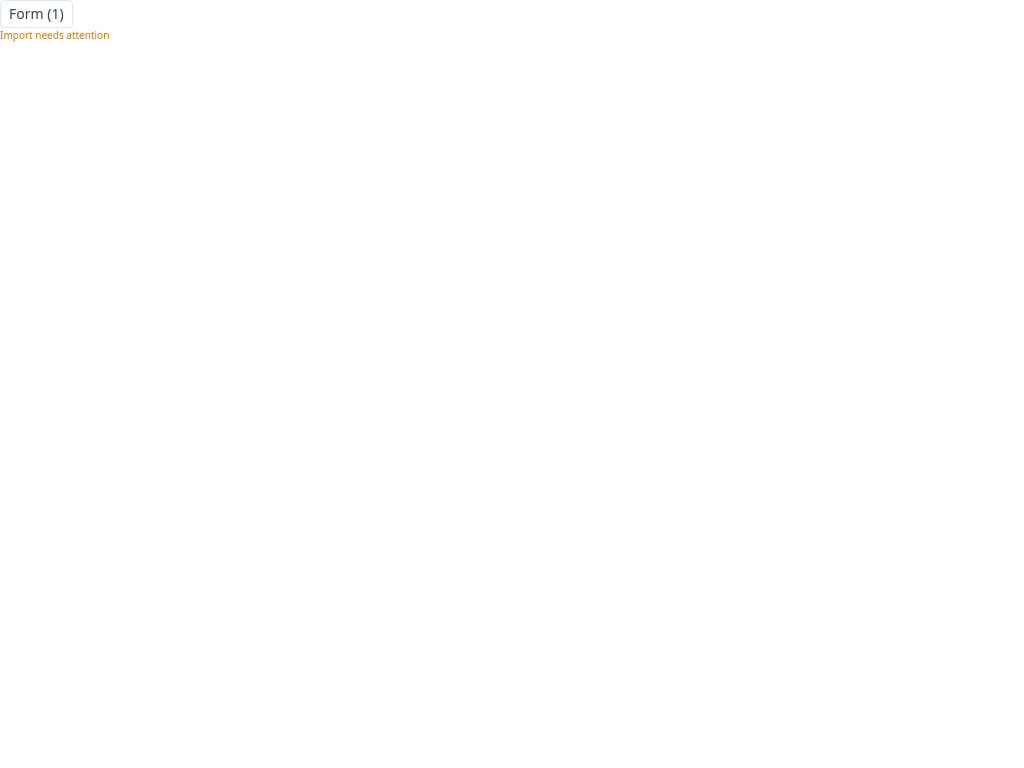
it: shows only the latest form for the same truck/day
This screenshot has width=1024, height=768.
Click the button "Form (1)" at (36, 14), box x1=0 y1=0 x2=73 y2=28
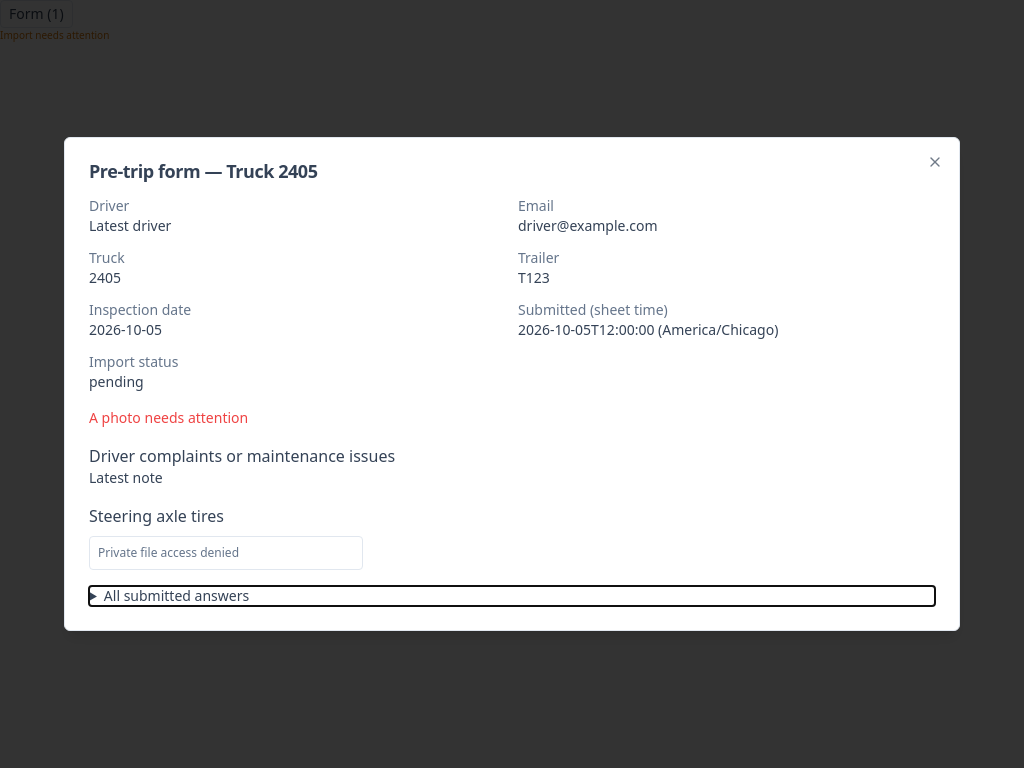
expect the text "Latest driver" is shown: met, box x1=89 y1=216 x2=171 y2=235
expect the text "Latest note" is shown: met, box x1=89 y1=468 x2=163 y2=487
